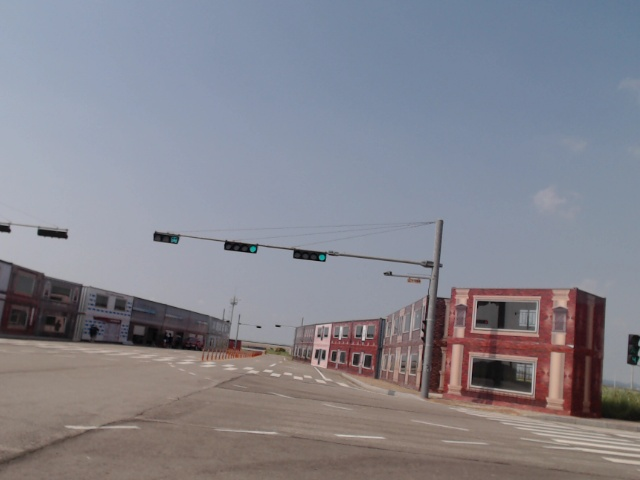straight_green_4: (223, 240, 257, 254), (293, 249, 327, 262)
